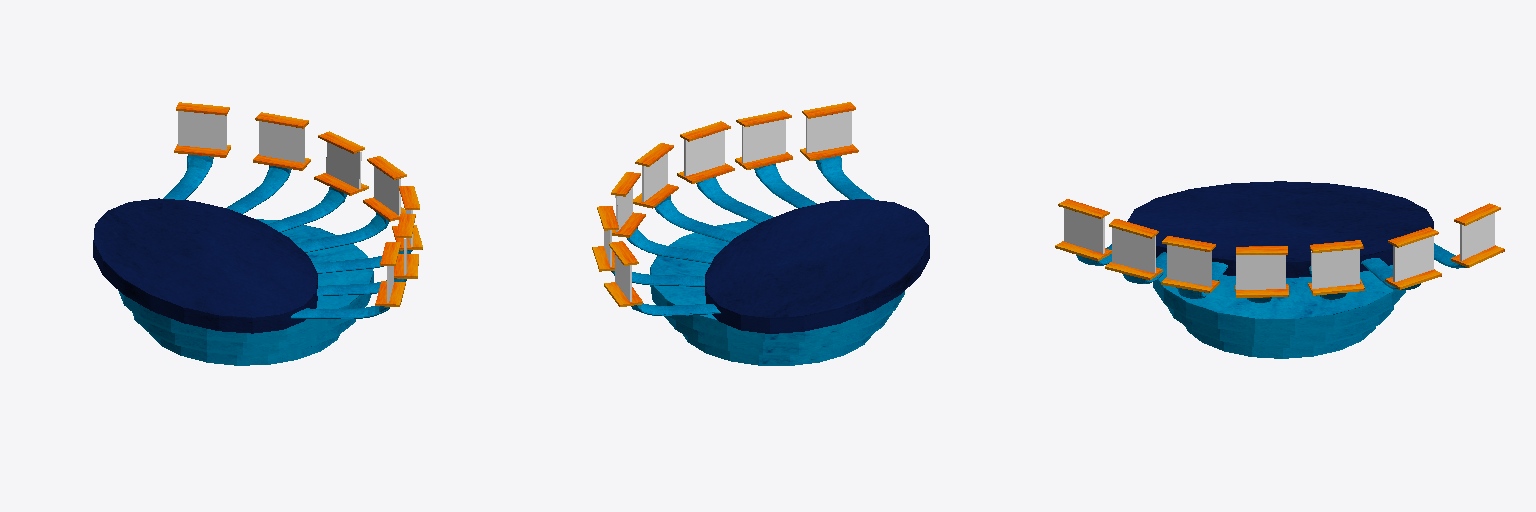
3 renders of one model, left to right at view 1: azimuth 30°, elevation 25°; view 2: azimuth 150°, elevation 25°; view 3: azimuth 270°, elevation 25°, orthographic.
Parts seen in each view (by area): view 1: ObjectsUVs_Blueplatform, ObjectsUVs_pCylinder3_BlueCircles, ObjectsUVs_BlueCircles_pCylinder2, ObjectsUVs_BlueCircles_pCylinder1, White_pCube15, White_pCube14, White_pCube12, ObjectsUVs_pCylinder8_Tubes, ObjectsUVs_Tubes_pCylinder10, ObjectsUVs_Tubes_pCylinder9, ObjectsUVs_Tubes_pCylinder11, ObjectsUVs_Tubes_pCylinder5 (+4 smaller); view 2: ObjectsUVs_Blueplatform, ObjectsUVs_pCylinder3_BlueCircles, ObjectsUVs_BlueCircles_pCylinder2, ObjectsUVs_BlueCircles_pCylinder1, White_pCube9, White_pCube25, White_pCube26, ObjectsUVs_pCylinder8_Tubes, ObjectsUVs_Tubes_pCylinder7, ObjectsUVs_Tubes_pCylinder5, ObjectsUVs_Tubes_pCylinder9, ObjectsUVs_Tubes_pCylinder6 (+3 smaller); view 3: ObjectsUVs_Blueplatform, ObjectsUVs_pCylinder3_BlueCircles, ObjectsUVs_BlueCircles_pCylinder2, ObjectsUVs_BlueCircles_pCylinder1, pCube24_White, White_pCube12, White_pCube26, White_pCube25, White_pCube9, White_pCube14, White_pCube15, ObjectsUVs_Tubes_pCylinder10.
Boxes of the visible parts, x1,y1,x2,y2 form: ObjectsUVs_Blueplatform: [93, 198, 317, 333]; ObjectsUVs_pCylinder3_BlueCircles: [118, 219, 373, 341]; ObjectsUVs_BlueCircles_pCylinder2: [132, 312, 355, 354]; ObjectsUVs_BlueCircles_pCylinder1: [149, 333, 339, 365]; White_pCube15: [178, 111, 226, 149]; White_pCube14: [259, 121, 304, 162]; White_pCube12: [326, 142, 361, 188]; ObjectsUVs_pCylinder8_Tubes: [296, 212, 389, 252]; ObjectsUVs_Tubes_pCylinder10: [227, 165, 291, 213]; ObjectsUVs_Tubes_pCylinder9: [267, 187, 346, 232]; ObjectsUVs_Tubes_pCylinder11: [163, 154, 213, 199]; ObjectsUVs_Tubes_pCylinder5: [291, 306, 389, 318]; ObjectsUVs_Blueplatform: [705, 199, 929, 333]; ObjectsUVs_pCylinder3_BlueCircles: [650, 220, 904, 342]; ObjectsUVs_BlueCircles_pCylinder2: [664, 312, 892, 354]; ObjectsUVs_BlueCircles_pCylinder1: [683, 333, 873, 365]; White_pCube9: [806, 111, 851, 152]; White_pCube25: [742, 119, 785, 162]; White_pCube26: [684, 130, 724, 176]; ObjectsUVs_pCylinder8_Tubes: [654, 195, 740, 242]; ObjectsUVs_Tubes_pCylinder7: [696, 177, 772, 223]; ObjectsUVs_Tubes_pCylinder5: [815, 156, 874, 199]; ObjectsUVs_Tubes_pCylinder9: [627, 228, 716, 263]; ObjectsUVs_Tubes_pCylinder6: [754, 164, 816, 207]; ObjectsUVs_Blueplatform: [1127, 181, 1433, 277]; ObjectsUVs_pCylinder3_BlueCircles: [1153, 265, 1405, 334]; ObjectsUVs_BlueCircles_pCylinder2: [1166, 305, 1393, 347]; ObjectsUVs_BlueCircles_pCylinder1: [1185, 326, 1375, 358]; pCube24_White: [1236, 255, 1285, 289]; White_pCube12: [1311, 249, 1360, 288]; White_pCube26: [1167, 245, 1211, 286]; White_pCube25: [1112, 228, 1155, 272]; White_pCube9: [1064, 208, 1104, 253]; White_pCube14: [1393, 236, 1433, 281]; White_pCube15: [1460, 213, 1494, 260]; ObjectsUVs_Tubes_pCylinder10: [1361, 258, 1420, 290].
Bounding box in the file's own units: 3.11 × 1.47 × 4.54.
Materials: 2 (1 with a texture image).